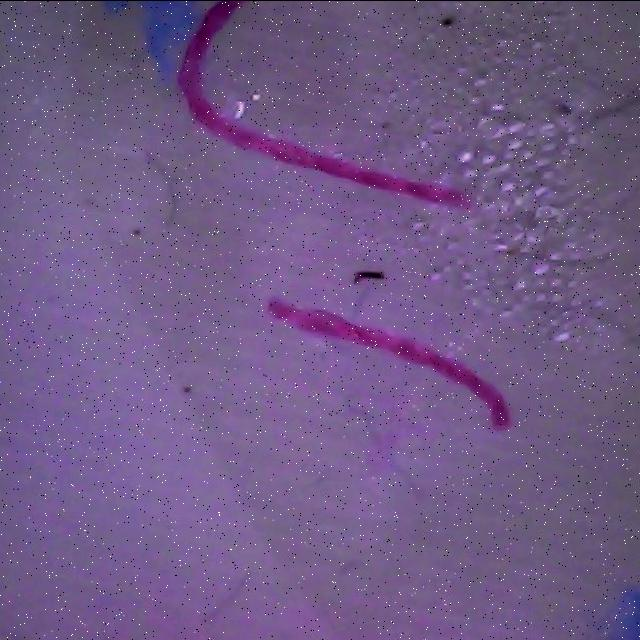Fibre: (248, 290, 520, 438), (342, 390, 420, 520), (190, 564, 262, 634), (138, 147, 176, 237), (342, 262, 390, 288)
